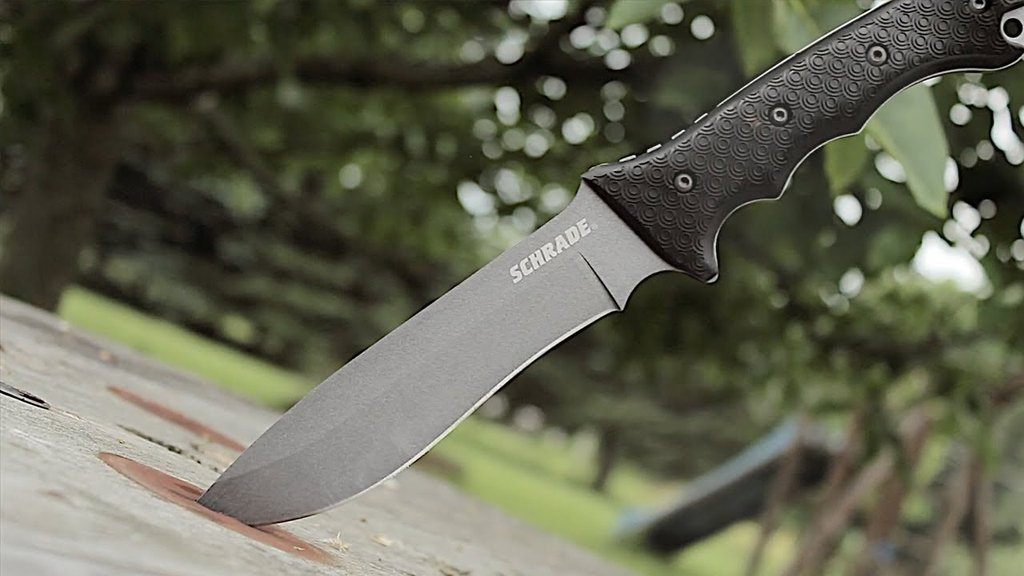knife: (191, 134, 737, 528)
